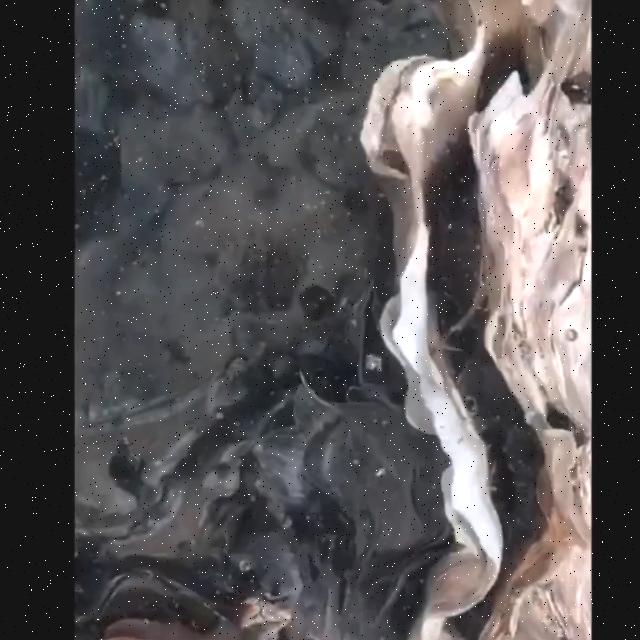Oyster-Open: (364, 0, 596, 640), (73, 85, 395, 542)
